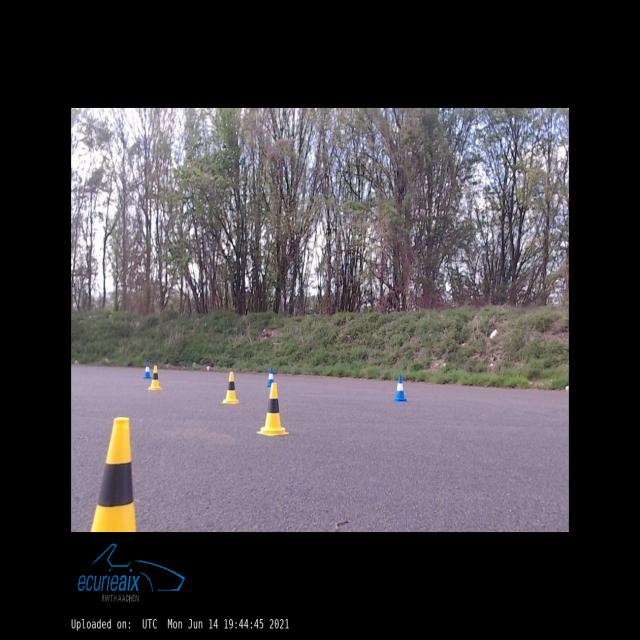blue_cone: (395, 375, 406, 401), (144, 362, 151, 378), (267, 369, 273, 387)
yellow_cone: (92, 417, 136, 531), (257, 383, 289, 436), (222, 372, 239, 404), (147, 366, 161, 390)
